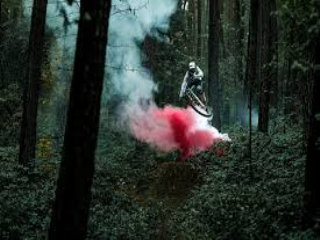smoke: (106, 5, 172, 137)
